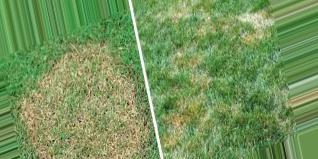patch: (101, 79, 141, 157), (27, 119, 99, 157), (34, 76, 92, 117), (65, 47, 126, 74), (165, 49, 196, 80), (180, 101, 202, 132), (243, 11, 268, 37), (163, 11, 197, 23)
